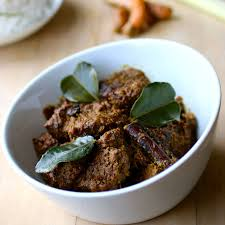rendang: (24, 53, 216, 208)
